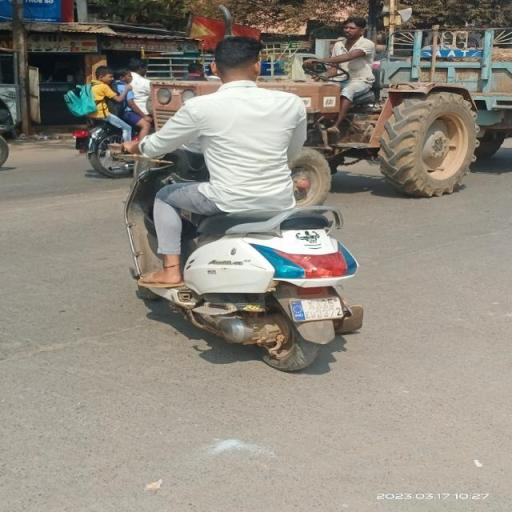bike: (118, 32, 382, 372)
numberplate: (289, 292, 350, 325)
withouthelmet: (213, 38, 262, 80)
